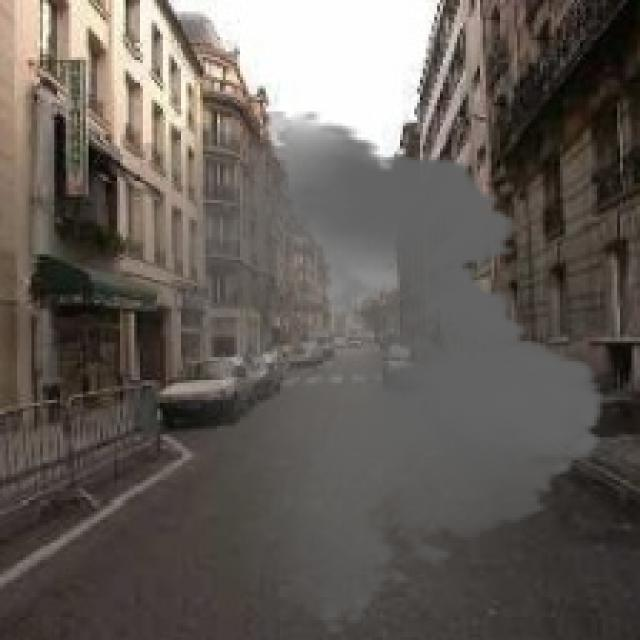smoke: (74, 112, 623, 637)
